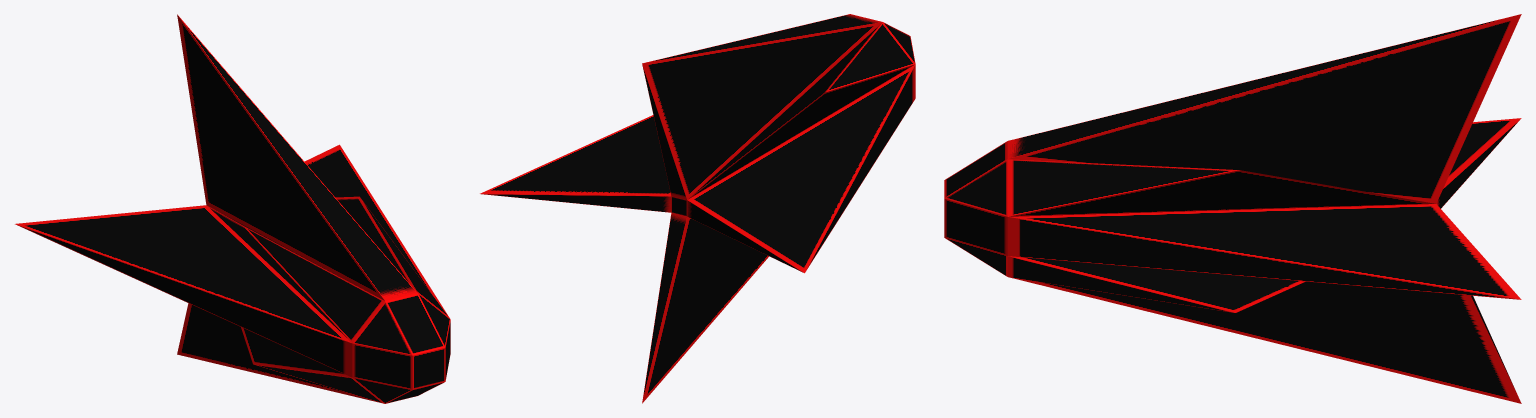
File: WormV2Tail.fbx
The picture shows the model from 3 angles, left to right: view 1: azimuth 30°, elevation 25°; view 2: azimuth 150°, elevation 25°; view 3: azimuth 270°, elevation 25°; orthographic projection. The views are drawn at different scales.
Parts seen in each view (by area): view 1: pPyramid2; view 2: pPyramid2; view 3: pPyramid2.
Boxes of the visible parts, x1,y1,x2,y2 form: pPyramid2: [15, 14, 450, 403]; pPyramid2: [480, 14, 915, 403]; pPyramid2: [944, 14, 1521, 403].
Size of the model in its own units: 3.51 by 3.51 by 4.71.
1 material, 1 textured.
